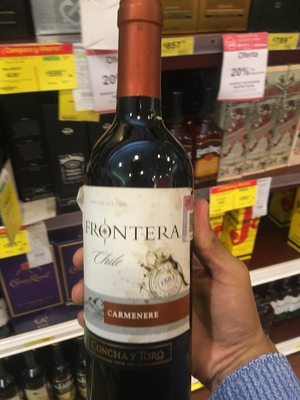frontera carmenere: (78, 16, 200, 400)
